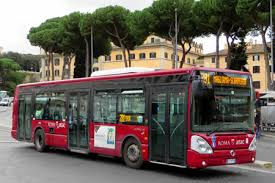bus: (12, 66, 257, 170)
